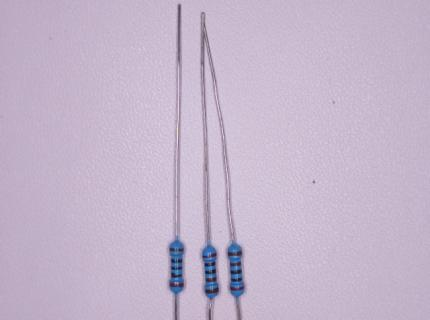Black band: (205, 262, 216, 267), (205, 269, 216, 274), (231, 278, 243, 282), (171, 259, 182, 263), (171, 273, 182, 277), (231, 270, 242, 274), (171, 267, 182, 270)
Brown band: (206, 288, 219, 294), (228, 251, 242, 256), (170, 247, 184, 251), (230, 261, 241, 266), (206, 278, 217, 282)
Red band: (202, 253, 216, 258), (230, 286, 245, 290), (170, 283, 183, 287)
